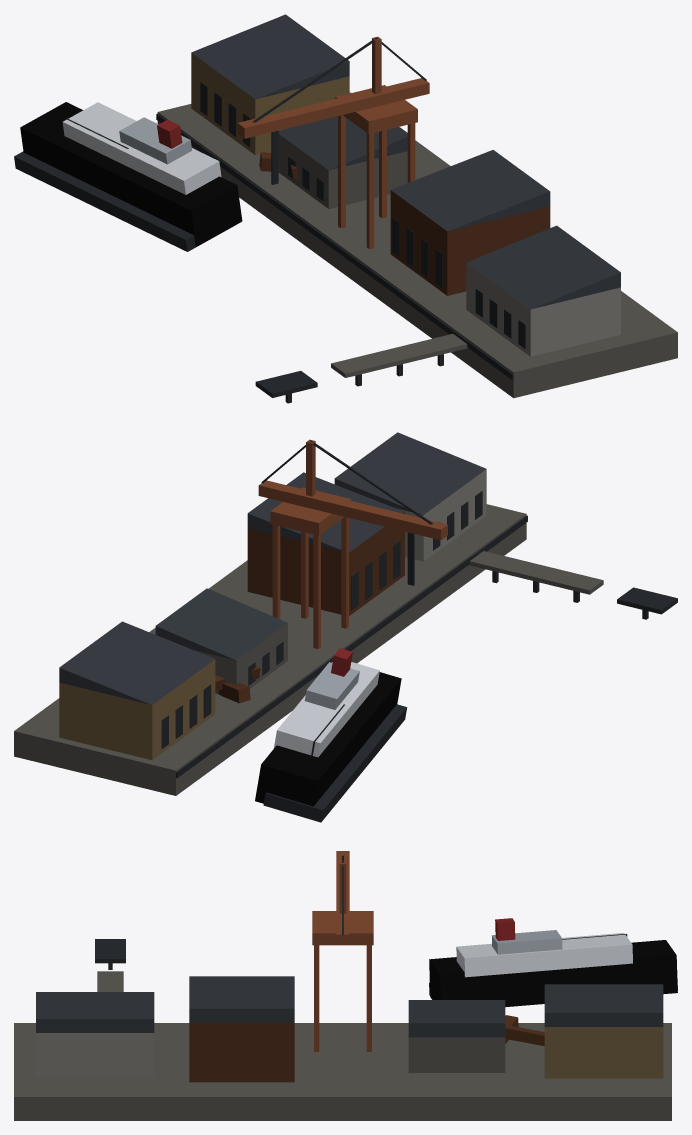
File: env_shore_waterfront.fbx
3 views of the same model, one above another, from view 1: azimuth 30°, elevation 25°; view 2: azimuth 150°, elevation 25°; view 3: azimuth 270°, elevation 25° (orthographic). The views are drawn at different scales.
Visible parts, largest first — view 1: env_shore_waterfront; view 2: env_shore_waterfront; view 3: env_shore_waterfront.
Boxes of the visible parts, bbox=[...] form: env_shore_waterfront: bbox=[14, 14, 677, 403]; env_shore_waterfront: bbox=[14, 432, 677, 822]; env_shore_waterfront: bbox=[14, 851, 677, 1120].
Size of the model in its own units: 17600 by 10237 by 30276.
